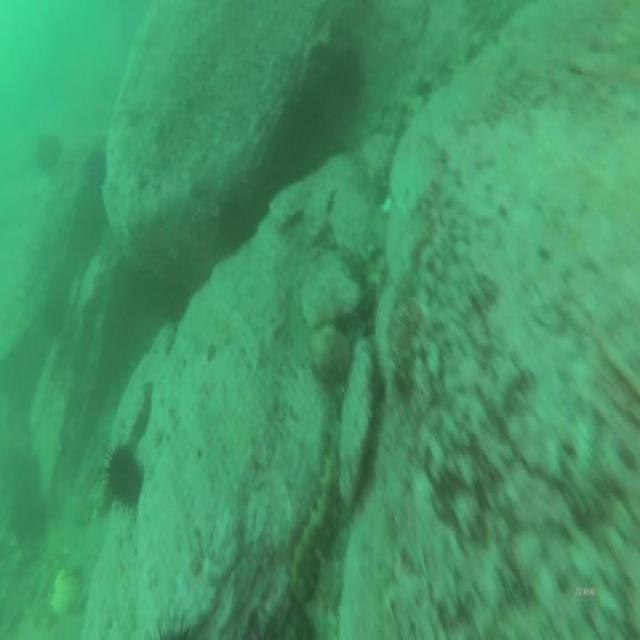echinus: (98, 439, 144, 514), (6, 477, 50, 552), (326, 41, 364, 108), (213, 195, 251, 258), (75, 188, 106, 256), (33, 131, 67, 179), (82, 143, 109, 195)
holothurian: (288, 430, 343, 607)
